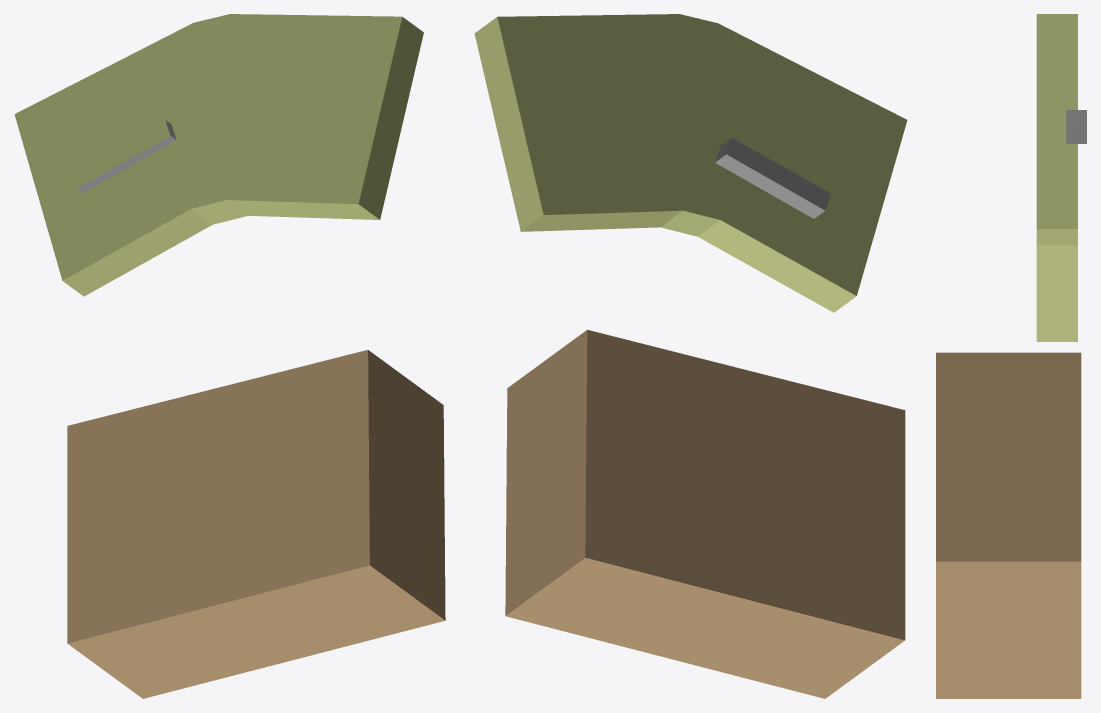
3 renders of one model, left to right at view 1: azimuth 30°, elevation 25°; view 2: azimuth 150°, elevation 25°; view 3: azimuth 270°, elevation 25°, orthographic. The views are drawn at different scales.
Visible parts, largest first — view 1: 0_3_2_0_2_3_0_0; view 2: 0_3_2_0_2_3_0_0; view 3: 0_3_2_0_2_3_0_0.
Part boxes in pixels (bbox=[...]): 0_3_2_0_2_3_0_0: bbox=[14, 14, 445, 698]; 0_3_2_0_2_3_0_0: bbox=[474, 14, 907, 698]; 0_3_2_0_2_3_0_0: bbox=[936, 14, 1086, 698].
Bounding box in the file's own units: 62.19 × 90.63 × 21.82.
